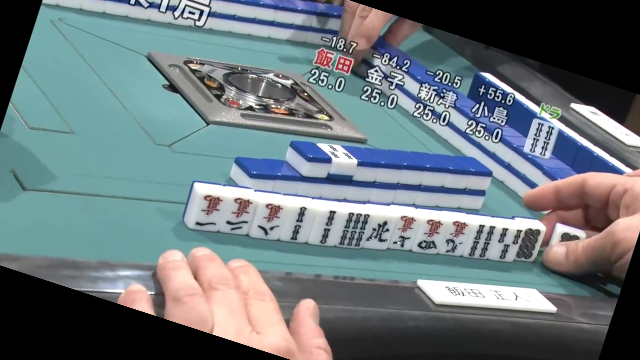Tehai: (190, 174, 549, 269)
